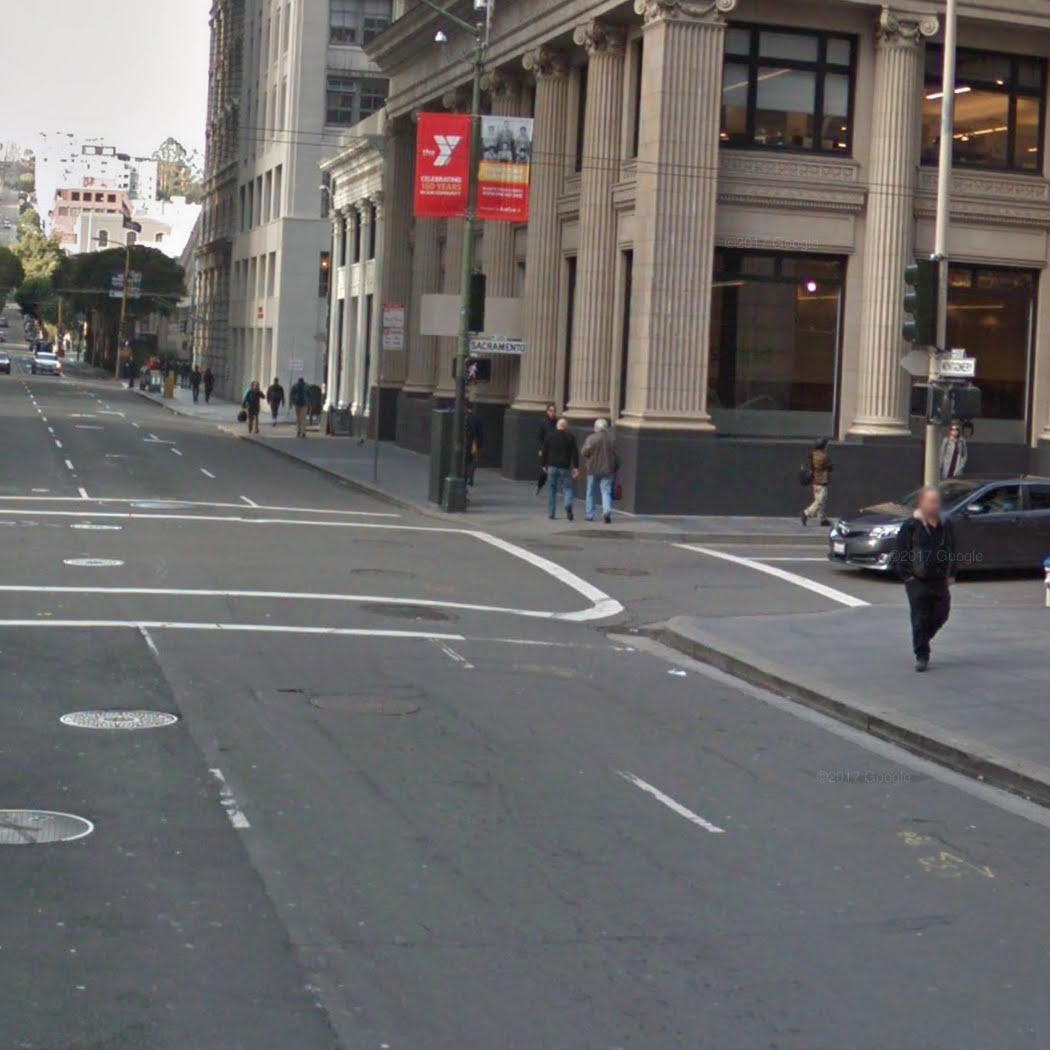No Parking: (380, 328, 405, 351)
